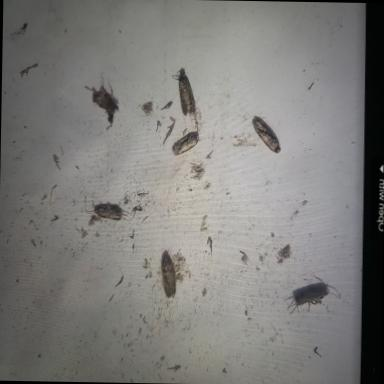pbw: (284, 272, 342, 316), (84, 75, 120, 118), (172, 66, 197, 116), (252, 114, 282, 154), (84, 201, 129, 221), (160, 250, 178, 299), (172, 125, 200, 156)
